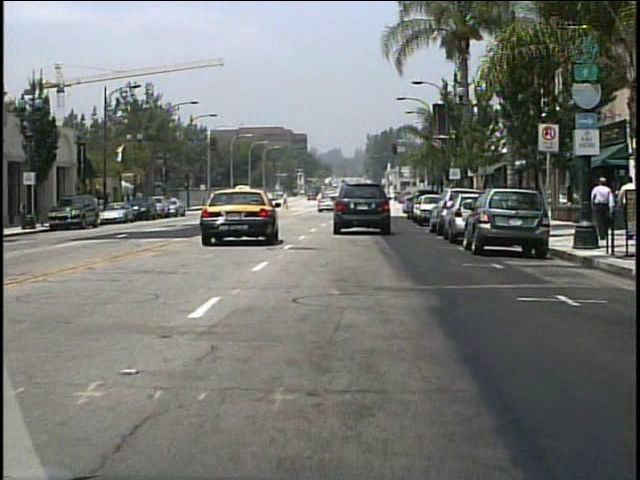person: (592, 175, 615, 241), (616, 175, 635, 238), (282, 192, 294, 213), (318, 192, 324, 212)
